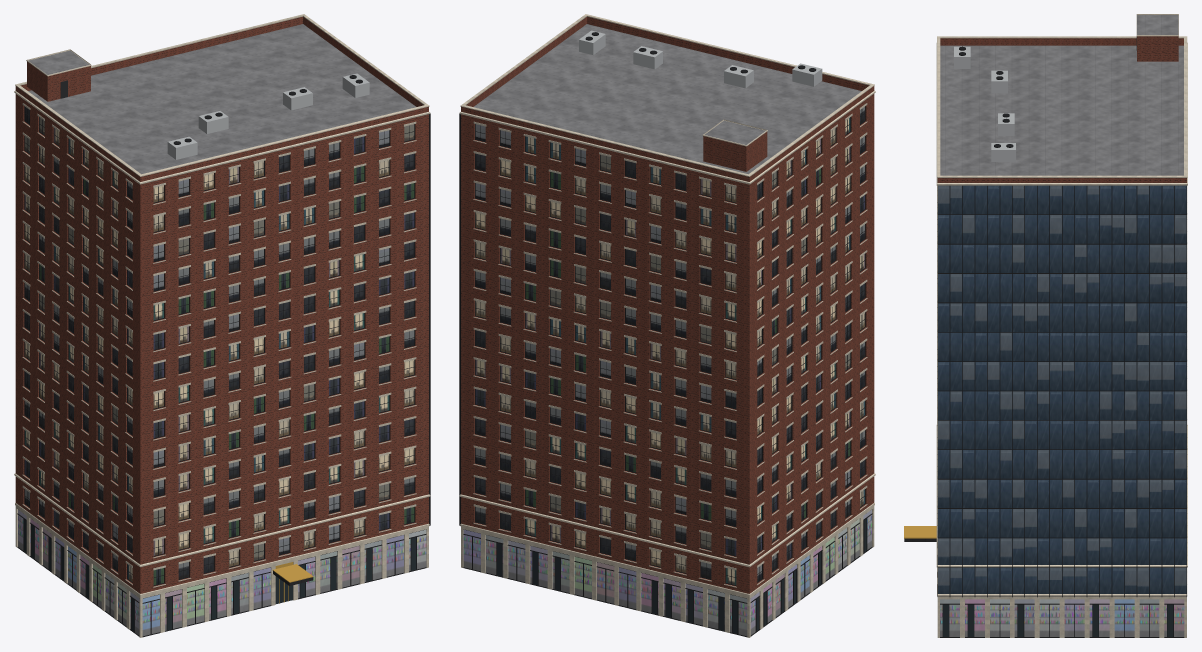
Rendered from hd26_university_hall.gltf.
The picture shows the model from 3 angles, left to right: view 1: azimuth 30°, elevation 25°; view 2: azimuth 150°, elevation 25°; view 3: azimuth 270°, elevation 25°; orthographic projection.
Parts seen in each view (by area): view 1: hd26_university_hall_LOD0; view 2: hd26_university_hall_LOD0; view 3: hd26_university_hall_LOD0.
Part boxes in pixels (x1,y1,x2,y2): hd26_university_hall_LOD0: (14, 14, 430, 637); hd26_university_hall_LOD0: (459, 14, 875, 637); hd26_university_hall_LOD0: (904, 14, 1187, 637).
Size of what is drawn, in the model's own units: 40.37 by 64.67 by 34.14.
Materials: 13 (7 with a texture image).
